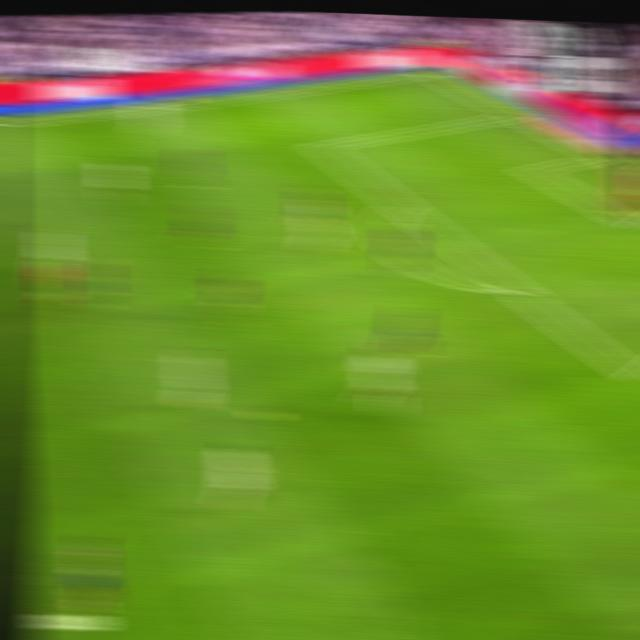bigarea_top_inner: (312, 138, 337, 155)
bigarea_top_outter: (501, 106, 527, 121)
bottom_arc_area_intersection: (505, 280, 534, 303)
corner: (417, 65, 446, 79)
smallarea_top_inner: (523, 164, 548, 177)
top_arc_area_intersection: (387, 194, 413, 213)
